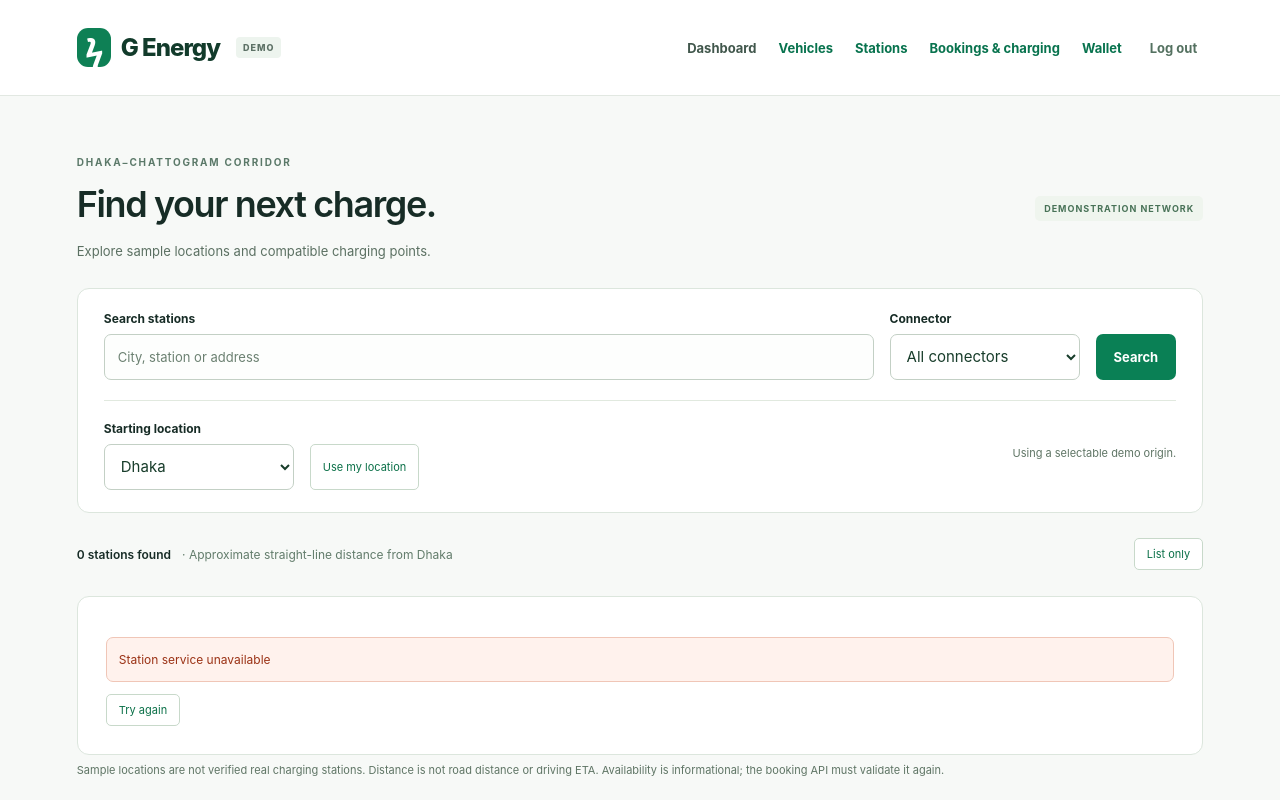
Scenario: Member 2 screens › shows station error and empty states
Expected: the message "Station service unavailable" is shown, [106,637,1174,682]
What coordinates should you click on to do the following:
click the button "Try again"
I would click on:
 (143, 710)
Its box is [106,694,180,726].
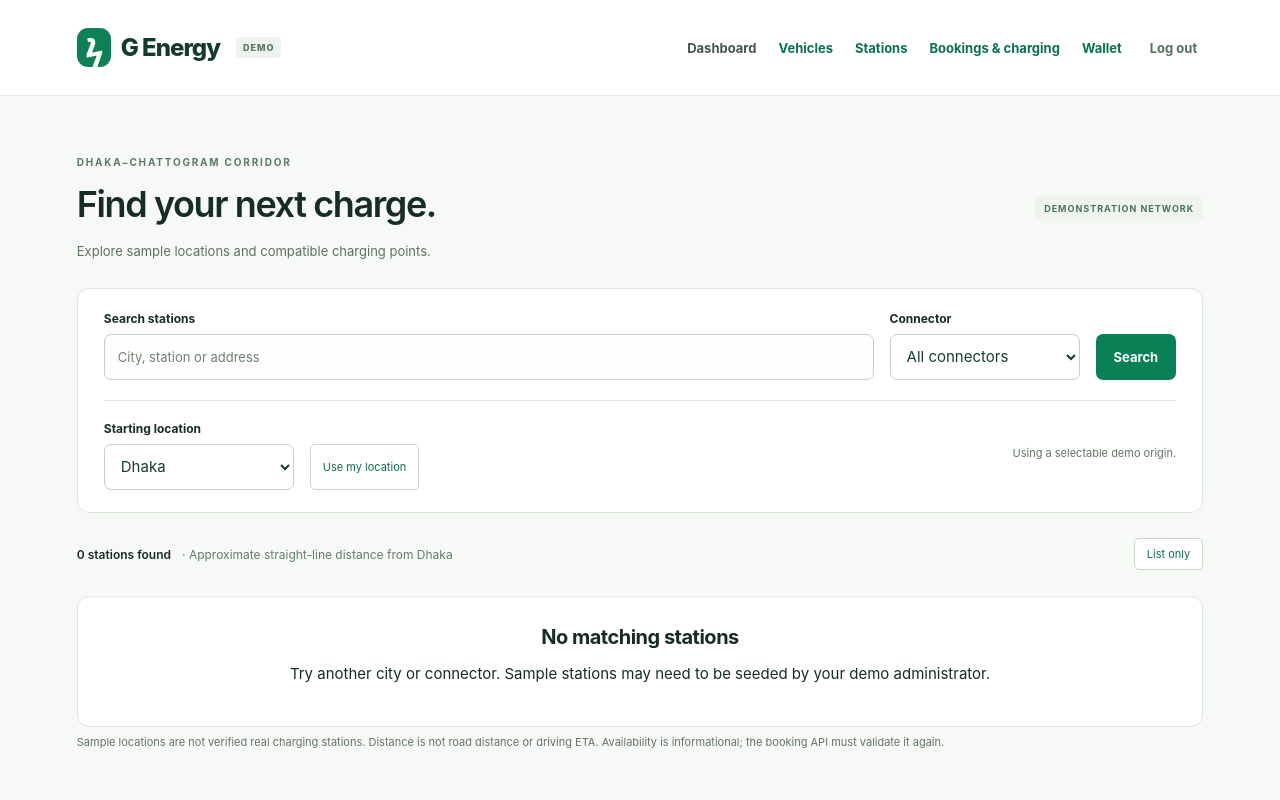
Expected: the heading "No matching stations" is shown, [541,625,739,649]
